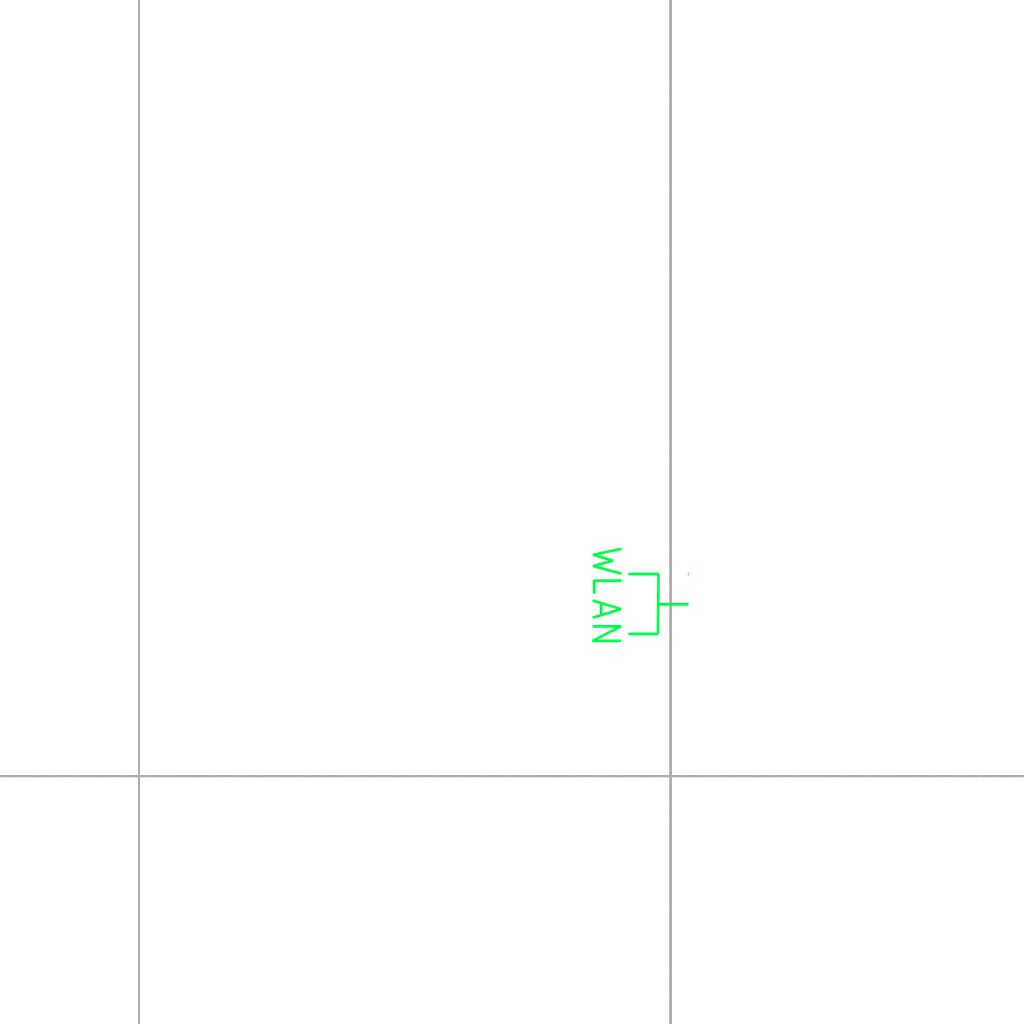WLAN: (588, 542, 692, 647)
